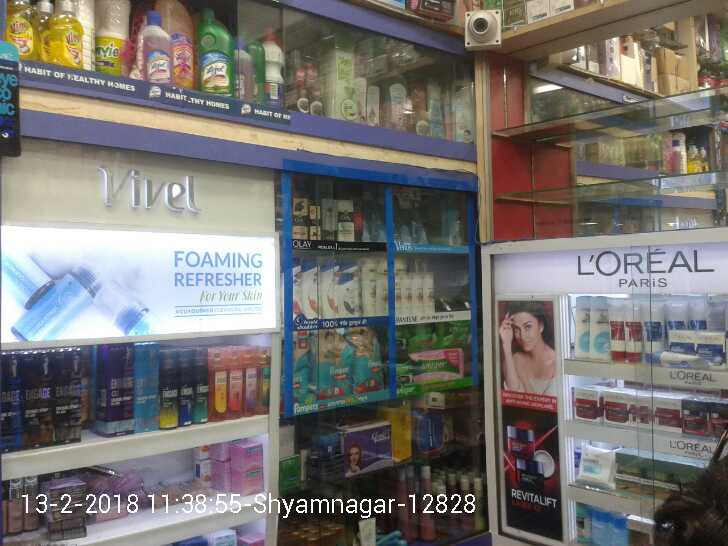venus: (399, 192, 427, 241)
